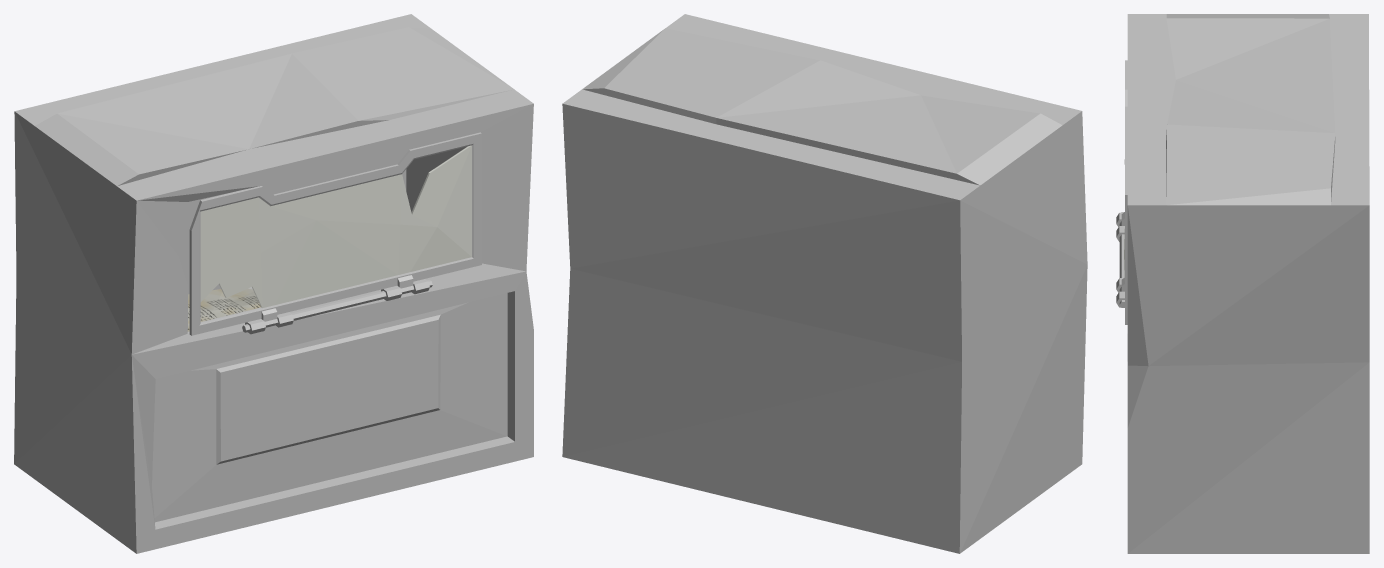
The model's file is SM_Mailbox.fbx.
3 views of the same model, side by side, from view 1: azimuth 30°, elevation 25°; view 2: azimuth 150°, elevation 25°; view 3: azimuth 270°, elevation 25° (orthographic).
Visible parts, largest first — view 1: SM_Mailbox, SM_Door; view 2: SM_Mailbox; view 3: SM_Mailbox, SM_Door.
Boxes of the visible parts, bbox=[...] form: SM_Mailbox: bbox=[14, 14, 533, 553]; SM_Door: bbox=[189, 132, 481, 335]; SM_Mailbox: bbox=[562, 14, 1087, 553]; SM_Mailbox: bbox=[1116, 14, 1369, 553]; SM_Door: bbox=[1119, 60, 1127, 324].
Size of the model in its own units: 131 by 112 by 72.55.
